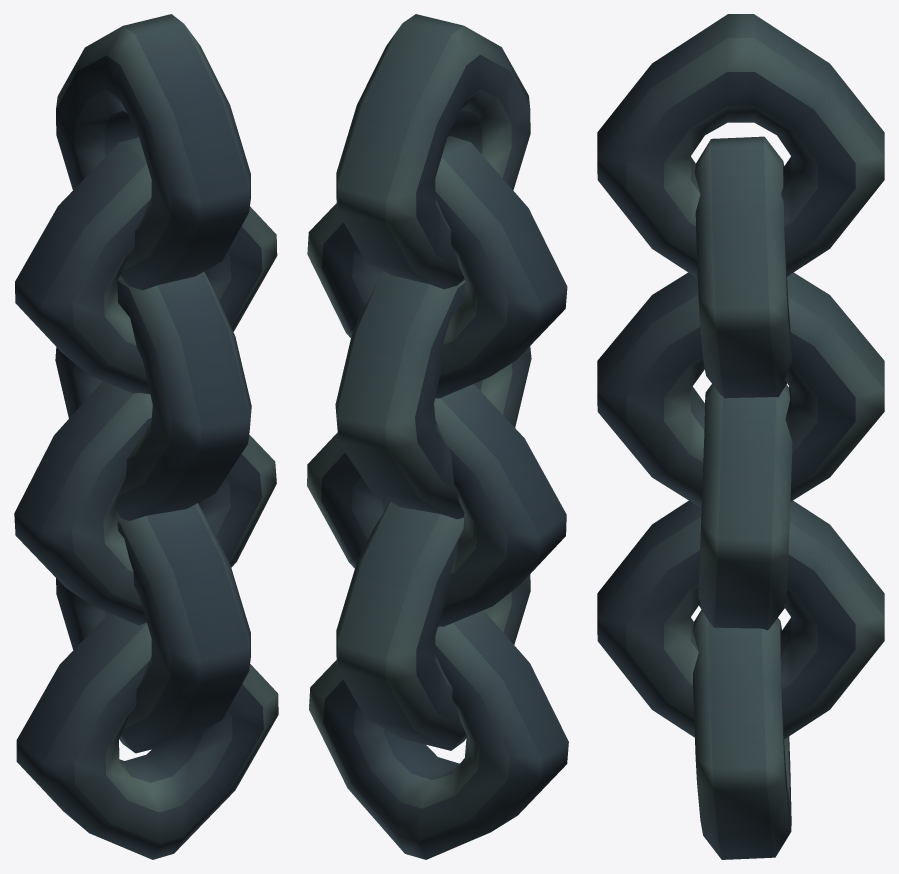
The model's file is chain.fbx.
The picture shows the model from 3 angles, left to right: view 1: azimuth 30°, elevation 25°; view 2: azimuth 150°, elevation 25°; view 3: azimuth 270°, elevation 25°; orthographic projection.
Visible parts, largest first — view 1: chain; view 2: chain; view 3: chain.
Part boxes in pixels (<box>): chain: <box>14,14,278,859</box>; chain: <box>307,14,568,859</box>; chain: <box>597,14,884,859</box>.
Bounding box in the file's own units: 38.38 × 129 × 40.37.
1 material, 1 textured.
